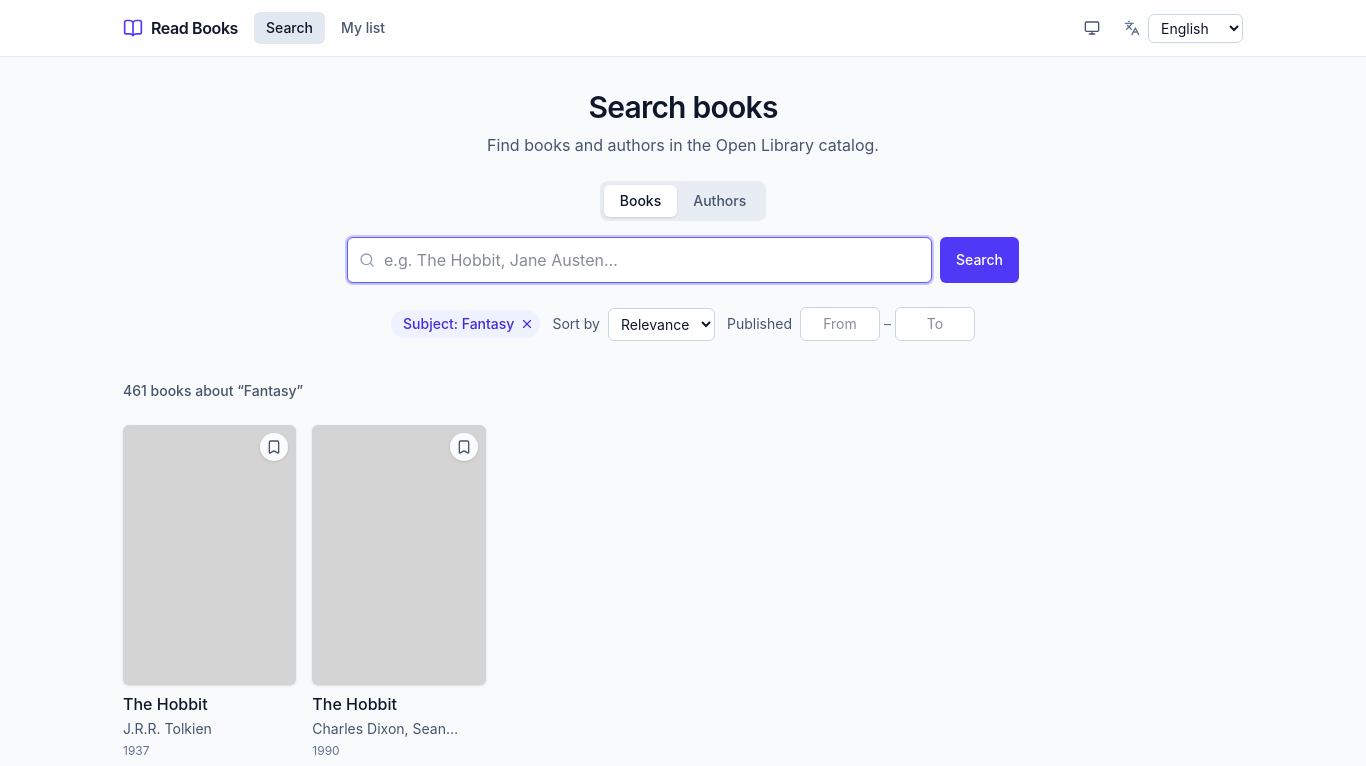
it: subject search › searches a subject without a query, and the chip removes it
expect the text "461 books about “Fantasy”" is shown: met, box x1=123 y1=382 x2=303 y2=399
expect the text "Subject: Fantasy" is shown: met, box x1=391 y1=310 x2=540 y2=338
What coordinates should you click on to do the following:
click the button named "Remove subject filter “Fantasy”"
I would click on:
 (527, 324)
Its box is x1=518 y1=315 x2=536 y2=333.
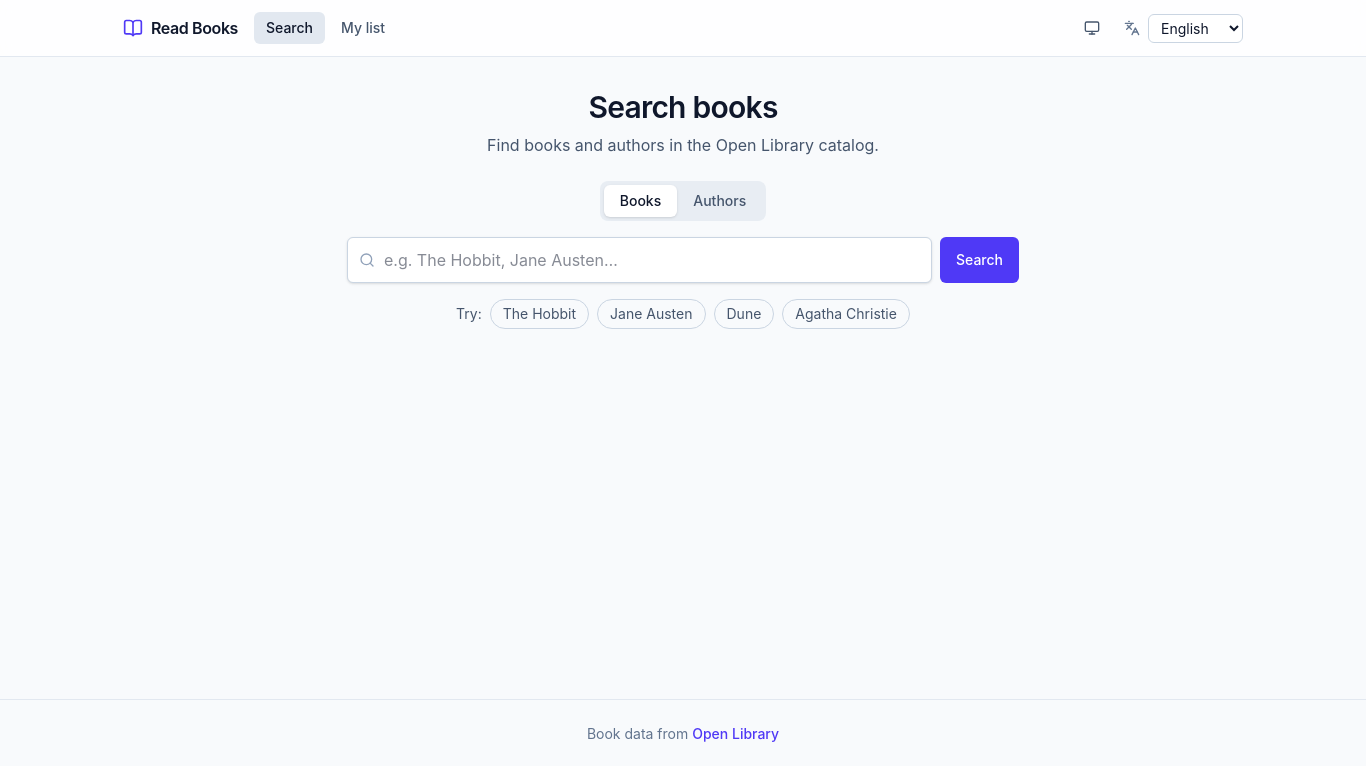
expect the link "Dune" is shown: met, box x1=714 y1=299 x2=774 y2=329
